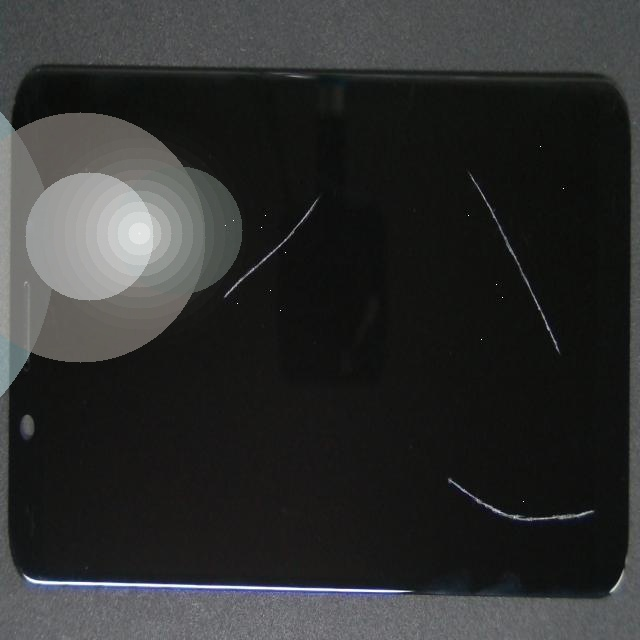scratch: (142, 234, 640, 640), (99, 138, 321, 459), (238, 65, 640, 224)
